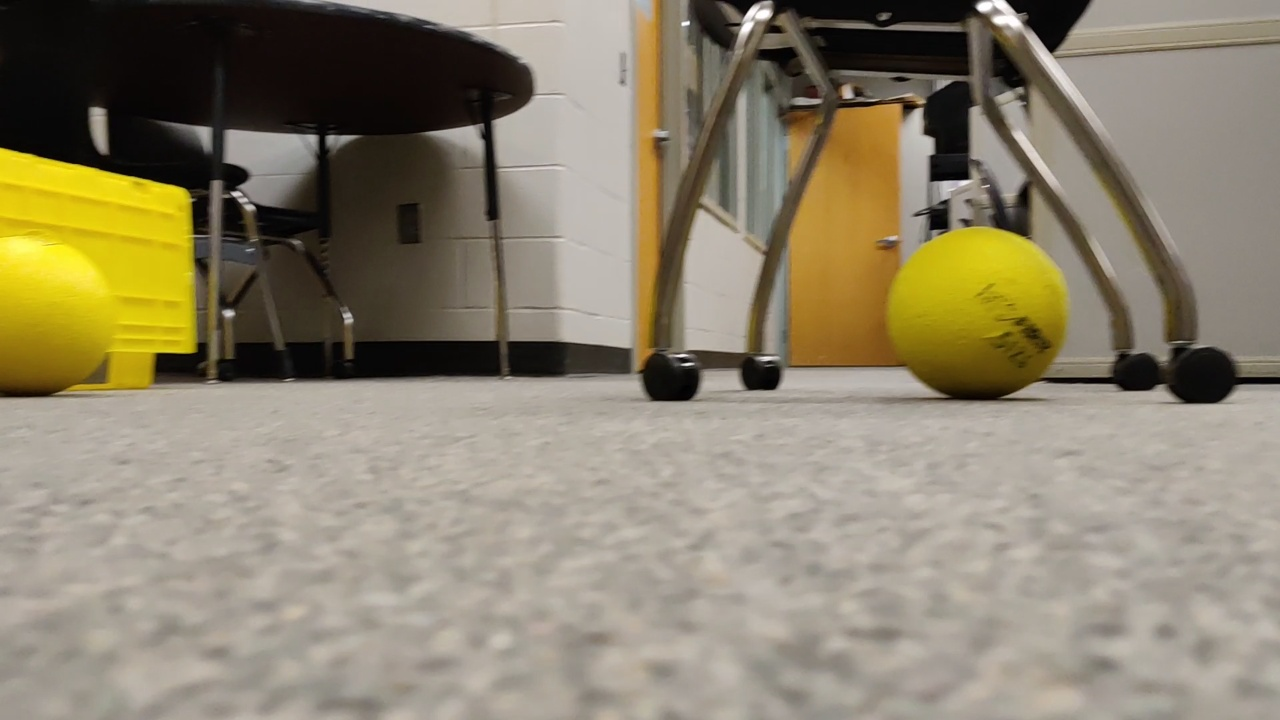Ball: (894, 223, 1073, 398), (1, 228, 113, 397)
